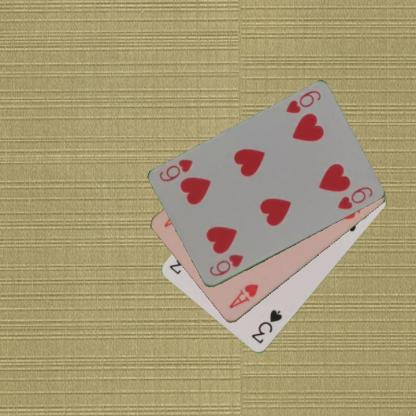3s: (248, 307, 284, 345)
6h: (283, 88, 323, 115), (206, 252, 245, 278)
Ah: (226, 282, 260, 310)
